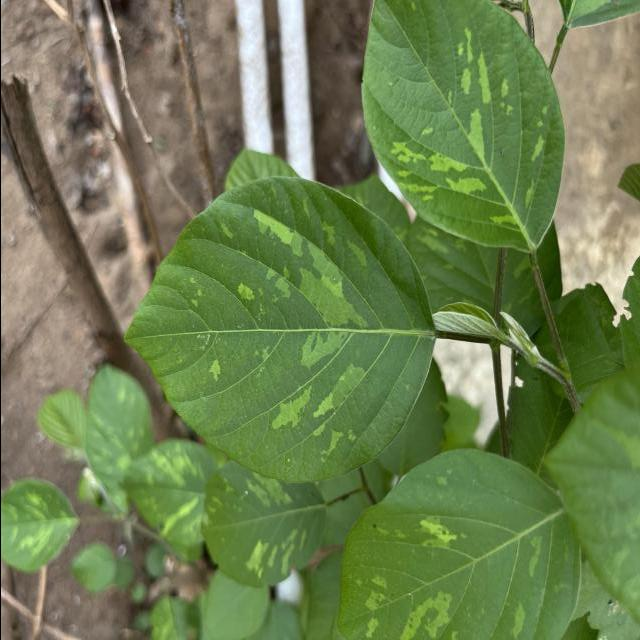Desmodium gangeticum: (118, 168, 442, 488), (356, 0, 567, 258)
